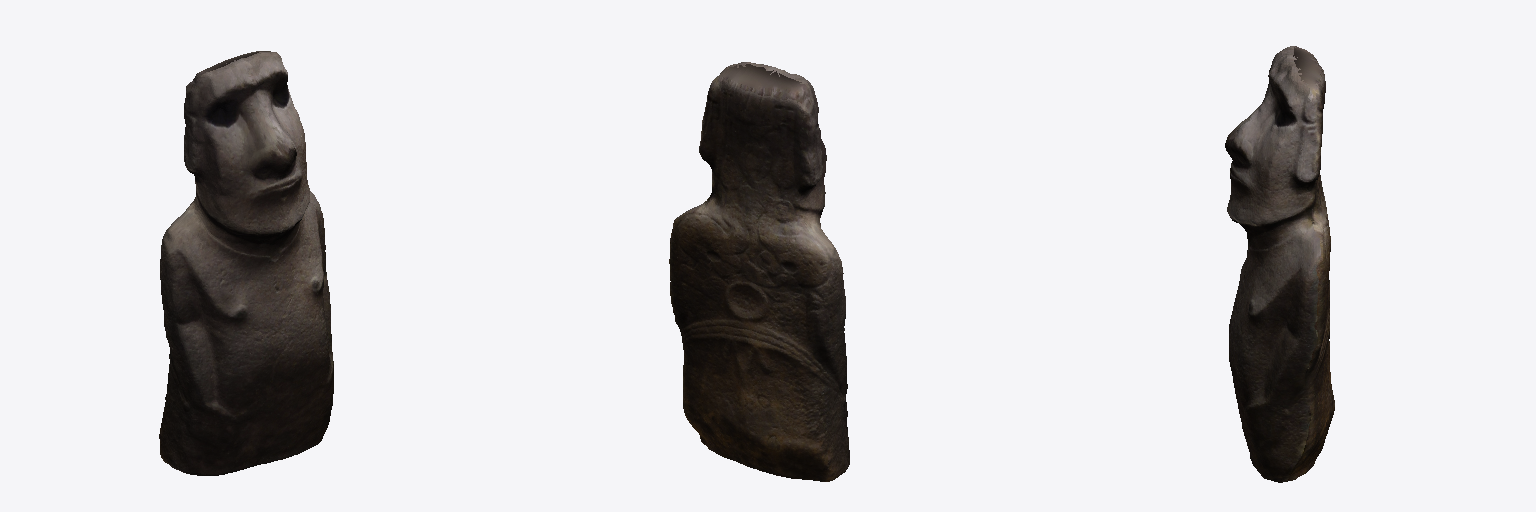
The picture shows the model from 3 angles: view 1: azimuth 30°, elevation 25°; view 2: azimuth 150°, elevation 25°; view 3: azimuth 270°, elevation 25°; orthographic projection.
Parts seen in each view (by area): view 1: hoa; view 2: hoa; view 3: hoa.
Boxes of the visible parts, box(x1,y1,x2,y2) form: hoa: box(159, 51, 333, 475); hoa: box(669, 62, 849, 481); hoa: box(1225, 46, 1334, 482).
Size of the model in its own units: 4.5 by 10.23 by 2.62.
Materials: 2 (2 with a texture image).